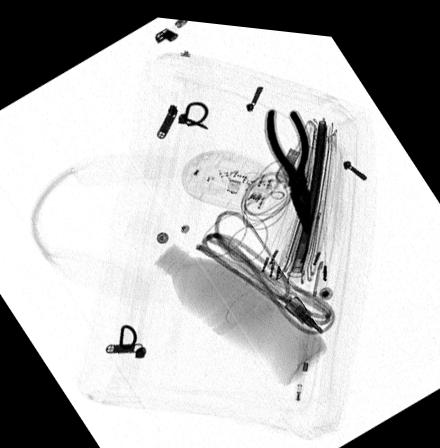Pliers: (263, 102, 311, 229)
